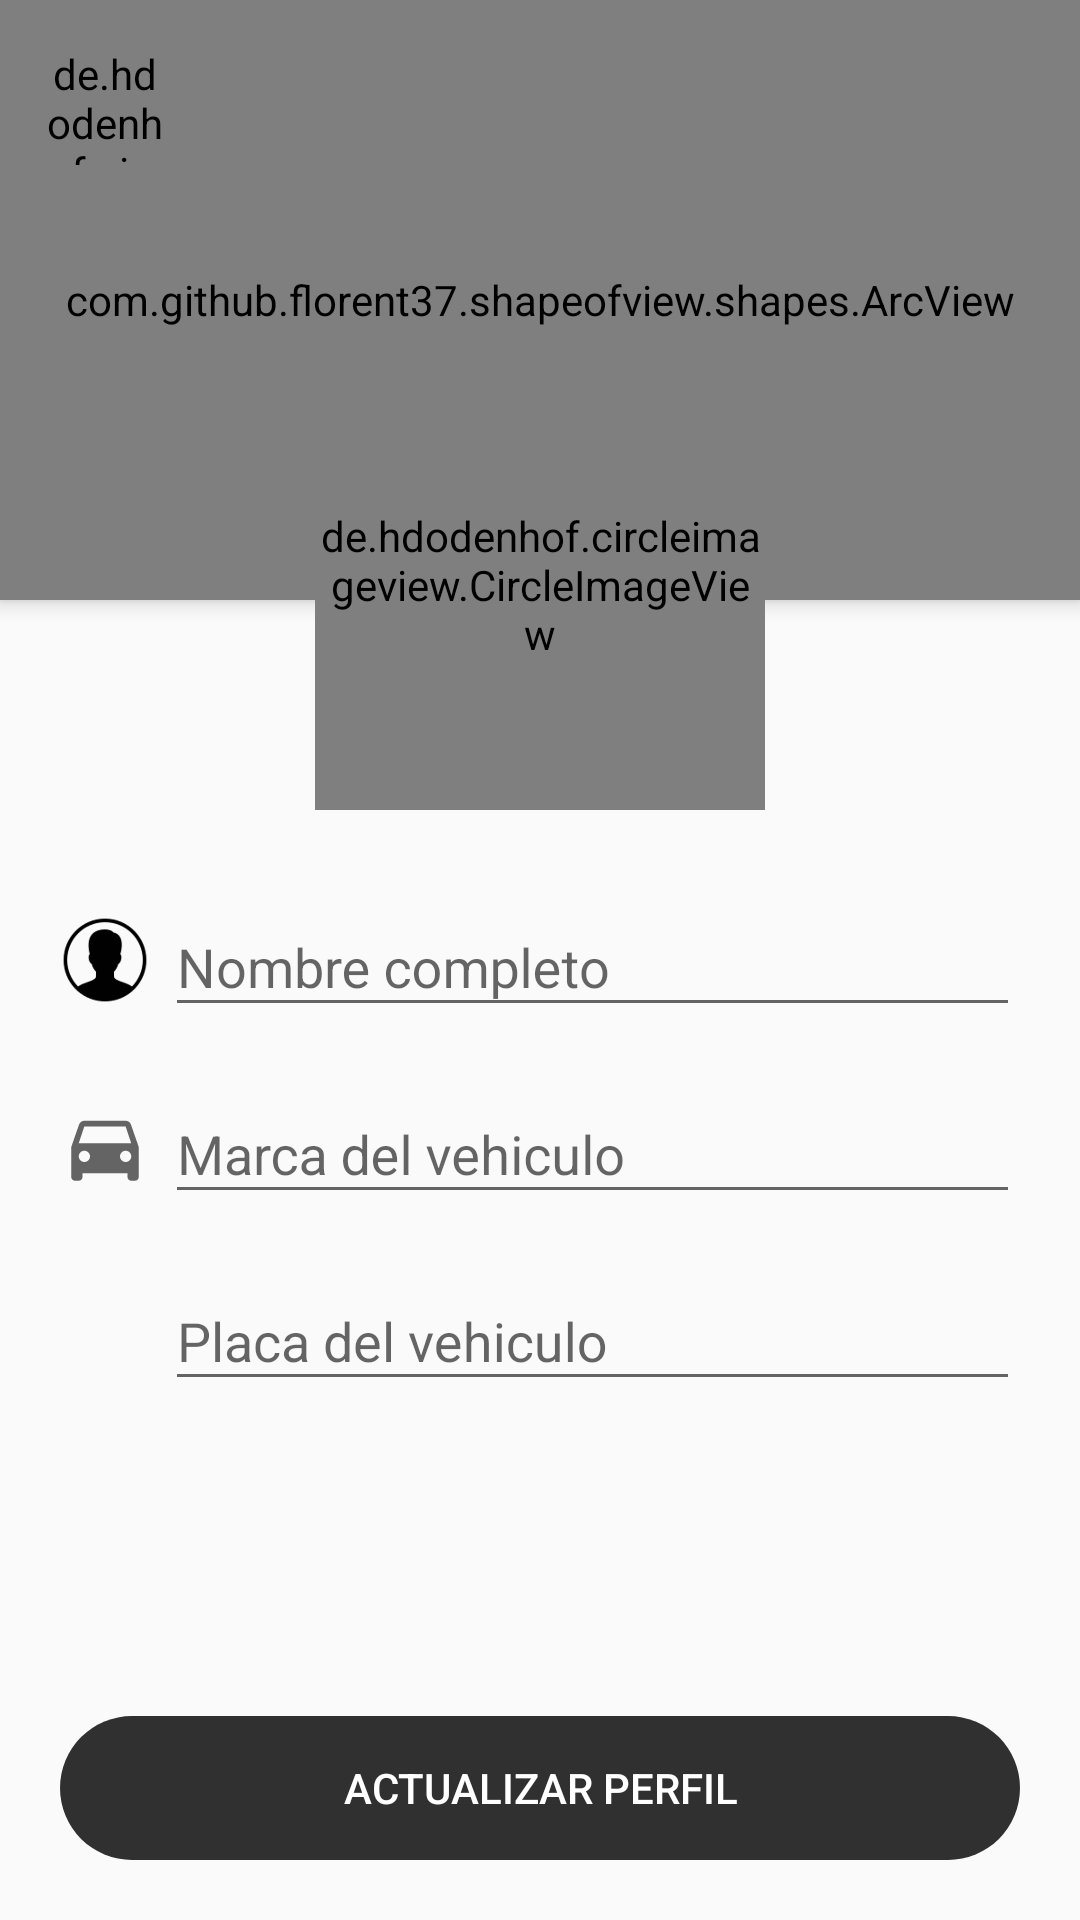

Icons on this 1080 × 1920 Android screen, each with its box as (left=x1, top=y1, right=x2, bottom=y2):
car: (left=71, top=1120, right=139, bottom=1181)
user: (left=63, top=918, right=147, bottom=1002)
